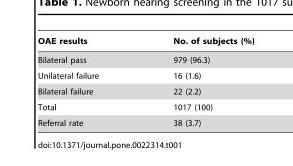table: (37, 36, 253, 127)
table column: (135, 36, 253, 127), (37, 36, 135, 127)
table column header: (37, 36, 253, 50)
table row: (37, 50, 253, 67), (37, 67, 253, 83), (37, 83, 253, 99), (37, 99, 253, 114), (37, 36, 253, 50), (37, 114, 253, 127)
